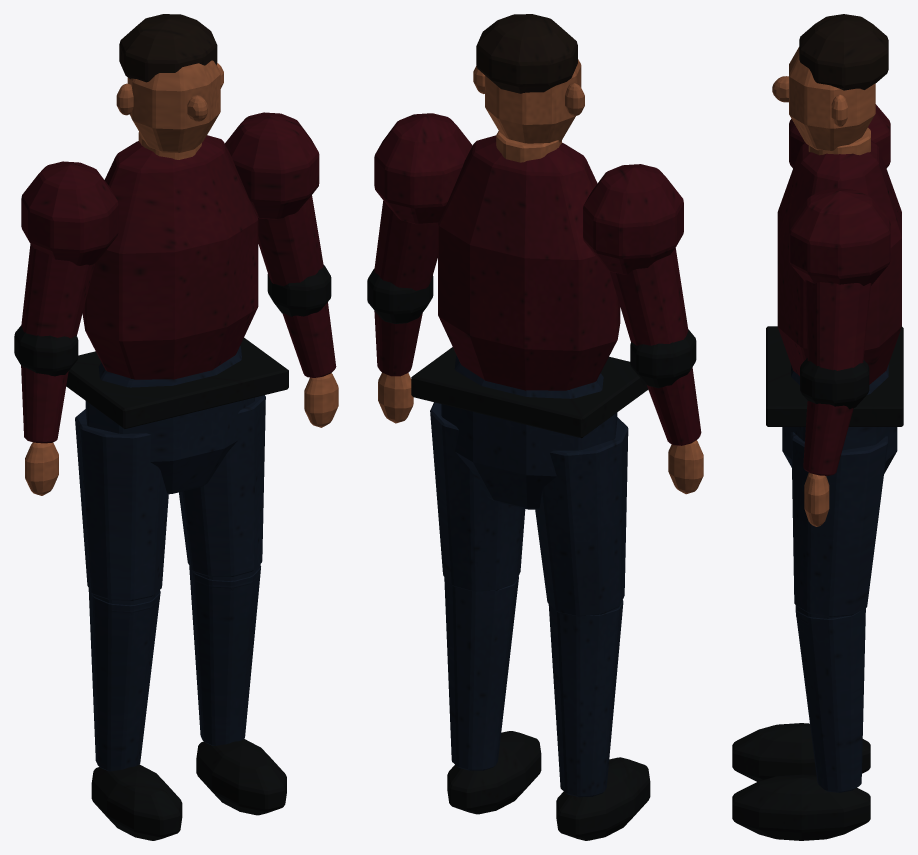
File: PROP-5BB9D09990BE_lod1.glb
3 views of the same model, side by side, from view 1: azimuth 30°, elevation 25°; view 2: azimuth 150°, elevation 25°; view 3: azimuth 270°, elevation 25° (orthographic). The views are drawn at different scales.
Visible parts, largest first — view 1: torso.015, thigh.014, calf.014, shoulder.015, shoe.014, upper_arm.015, belt.014, pelvis.014, head.014, forearm.015, hair_cap.014, elbow_protection.010 (+2 smaller); view 2: torso.015, thigh.014, calf.014, shoulder.015, pelvis.014, shoe.014, upper_arm.015, belt.014, hair_cap.014, forearm.015, elbow_protection.010, head.014 (+3 smaller); view 3: thigh.014, torso.015, shoe.014, calf.014, shoulder.015, hair_cap.014, belt.014, upper_arm.015, head.014, forearm.015, elbow_protection.010, pelvis.014 (+4 smaller).
Boxes of the visible parts, left/top/right/bottom form: torso.015: left=82, top=135, right=258, bottom=379; thigh.014: left=75, top=395, right=265, bottom=600; calf.014: left=88, top=566, right=260, bottom=771; shoulder.015: left=21, top=112, right=319, bottom=265; shoe.014: left=91, top=739, right=286, bottom=840; upper_arm.015: left=21, top=195, right=323, bottom=338; belt.014: left=66, top=337, right=288, bottom=428; pelvis.014: left=85, top=346, right=254, bottom=494; head.014: left=127, top=60, right=220, bottom=152; forearm.015: left=21, top=302, right=336, bottom=443; hair_cap.014: left=119, top=14, right=217, bottom=82; elbow_protection.010: left=14, top=265, right=331, bottom=376; torso.015: left=438, top=135, right=620, bottom=390; thigh.014: left=430, top=402, right=628, bottom=616; calf.014: left=444, top=576, right=623, bottom=797; shoulder.015: left=374, top=113, right=683, bottom=274; pelvis.014: left=441, top=355, right=617, bottom=509; shoe.014: left=447, top=731, right=650, bottom=840; upper_arm.015: left=374, top=201, right=688, bottom=345; belt.014: left=411, top=347, right=648, bottom=438; hair_cap.014: left=476, top=14, right=577, bottom=93; forearm.015: left=374, top=311, right=701, bottom=445; elbow_protection.010: left=367, top=268, right=696, bottom=388; head.014: left=485, top=59, right=581, bottom=143; thigh.014: left=791, top=432, right=887, bottom=617; torso.015: left=777, top=140, right=901, bottom=384; shoe.014: left=732, top=723, right=870, bottom=840; calf.014: left=795, top=605, right=865, bottom=792; shoulder.015: left=789, top=104, right=890, bottom=285; hair_cap.014: left=799, top=14, right=888, bottom=90; belt.014: left=766, top=326, right=903, bottom=426; upper_arm.015: left=805, top=280, right=871, bottom=370; head.014: left=789, top=47, right=875, bottom=151; forearm.015: left=803, top=401, right=853, bottom=475; elbow_protection.010: left=800, top=358, right=869, bottom=409; pelvis.014: left=782, top=365, right=897, bottom=473.
Bounding box in the file's own units: 0.7126 × 1.71 × 0.3357.
5 materials, 5 textured.
